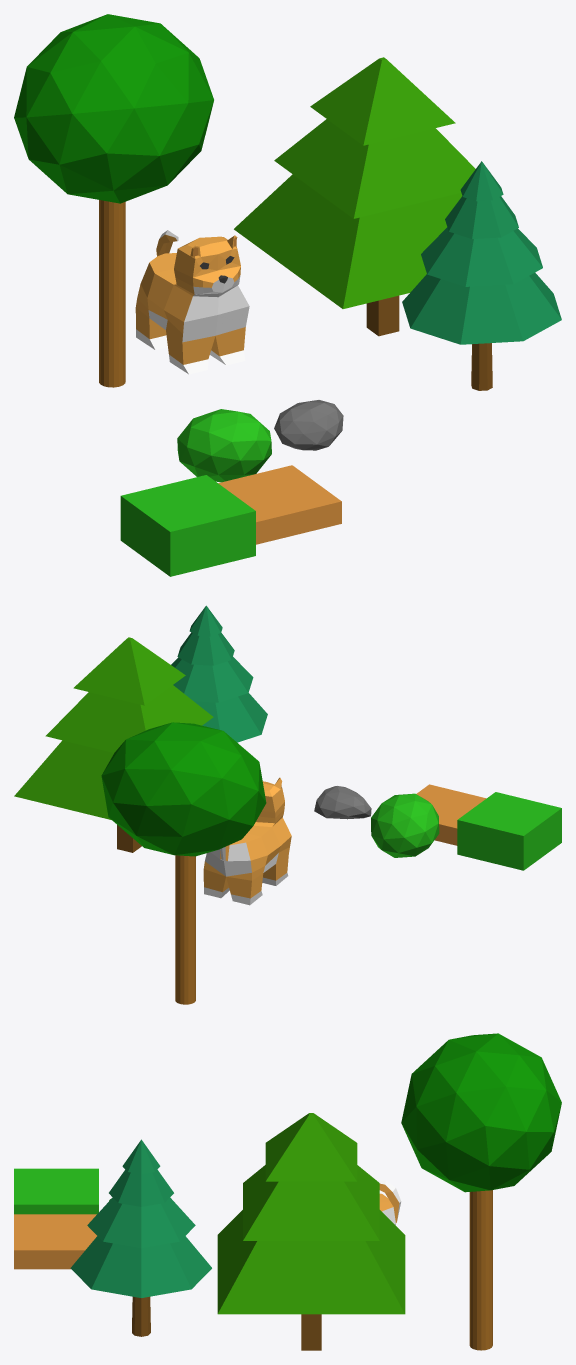
The model's file is Models.fbx.
3 views of the same model, one above another, from view 1: azimuth 30°, elevation 25°; view 2: azimuth 150°, elevation 25°; view 3: azimuth 270°, elevation 25° (orthographic). The views are drawn at different scales.
Visible parts, largest first — view 1: PineTreeCubic, TreeSpherical, PineTreeCylindrical, Doge, GrassBlock, PathBlock, Bush, Rock; view 2: TreeSpherical, PineTreeCubic, PineTreeCylindrical, GrassBlock, Doge, Bush, PathBlock, Rock; view 3: PineTreeCubic, TreeSpherical, PineTreeCylindrical, PathBlock, GrassBlock, Doge.
Part boxes in pixels (box(x1,y1,x2,y2)): PineTreeCubic: box(234, 57, 475, 336); TreeSpherical: box(14, 14, 213, 387); PineTreeCylindrical: box(402, 161, 561, 390); Doge: box(135, 230, 249, 374); GrassBlock: box(120, 475, 255, 576); PathBlock: box(218, 465, 341, 544); Bush: box(177, 409, 271, 482); Rock: box(274, 400, 343, 450); TreeSpherical: box(101, 722, 266, 1004); PineTreeCubic: box(14, 637, 213, 852); PineTreeCylindrical: box(171, 605, 267, 742); GrassBlock: box(457, 792, 561, 870); Doge: box(203, 777, 291, 905); Bush: box(371, 793, 439, 857); PathBlock: box(416, 784, 486, 845); Rock: box(314, 786, 371, 819); PineTreeCubic: box(217, 1113, 405, 1350); TreeSpherical: box(401, 1033, 561, 1350); PineTreeCylindrical: box(70, 1139, 211, 1336); PathBlock: box(14, 1214, 96, 1269); GrassBlock: box(14, 1168, 98, 1214); Doge: box(377, 1180, 401, 1224).
Bounding box in the file's own units: 11.21 × 7.88 × 12.9.
